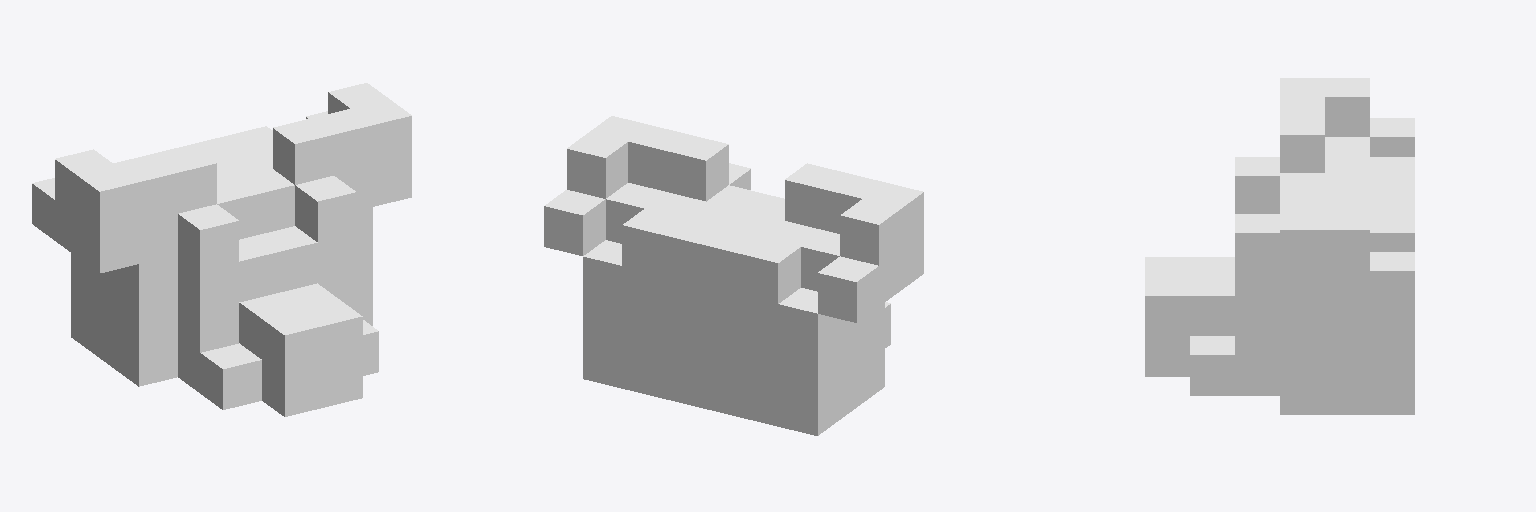
Rendered from Pequena-0.obj.
3 views of the same model, side by side, from view 1: azimuth 30°, elevation 25°; view 2: azimuth 150°, elevation 25°; view 3: azimuth 270°, elevation 25° (orthographic).
Visible parts, largest first — view 1: object 1; view 2: object 1; view 3: object 1.
Boxes of the visible parts, box(x1,y1,x2,y2) form: object 1: box(32, 83, 411, 416); object 1: box(544, 116, 923, 435); object 1: box(1145, 78, 1414, 414).
Bounding box in the file's own units: 0.8 × 0.5 × 0.6.